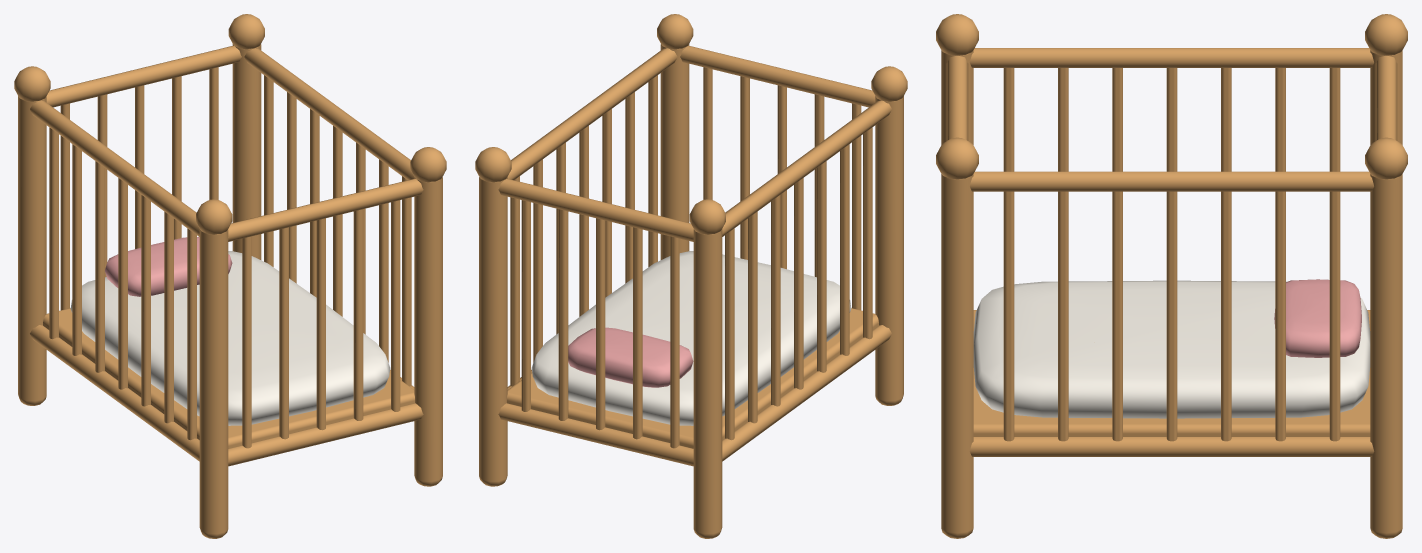
The model's file is baby_crib.glb.
The picture shows the model from 3 angles, left to right: view 1: azimuth 30°, elevation 25°; view 2: azimuth 150°, elevation 25°; view 3: azimuth 270°, elevation 25°; orthographic projection. The views are drawn at different scales.
Parts seen in each view (by area): view 1: baby_crib_mesh; view 2: baby_crib_mesh; view 3: baby_crib_mesh.
Part boxes in pixels (x1,y1,x2,y2): baby_crib_mesh: (14, 14, 446, 538); baby_crib_mesh: (475, 14, 907, 538); baby_crib_mesh: (936, 14, 1407, 538).
Size of the model in its own units: 0.6877 by 0.895 by 0.9677.
